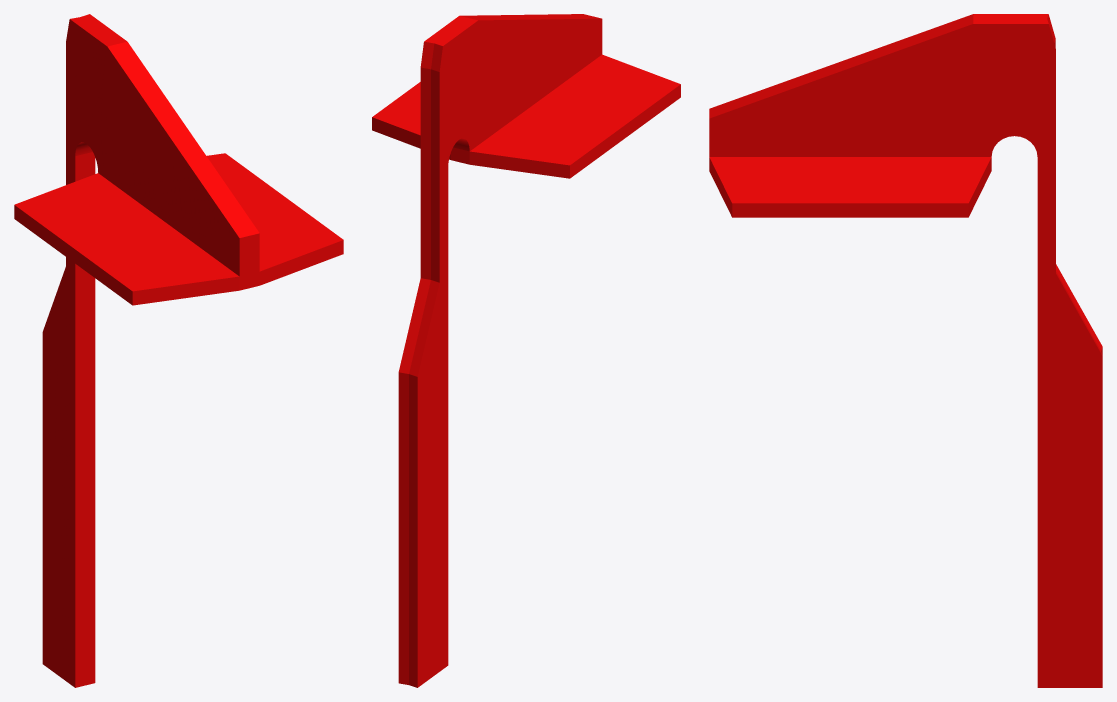
Rendered from original-40.obj.
3 renders of one model, left to right at view 1: azimuth 30°, elevation 25°; view 2: azimuth 150°, elevation 25°; view 3: azimuth 270°, elevation 25°, orthographic. The views are drawn at different scales.
Visible parts, largest first — view 1: Group24/mesh125/mesh125-geometry#mesh125-geometry; view 2: Group24/mesh125/mesh125-geometry#mesh125-geometry; view 3: Group24/mesh125/mesh125-geometry#mesh125-geometry.
Boxes of the visible parts, x1,y1,x2,y2 form: Group24/mesh125/mesh125-geometry#mesh125-geometry: (14,14,343,687); Group24/mesh125/mesh125-geometry#mesh125-geometry: (372,14,680,687); Group24/mesh125/mesh125-geometry#mesh125-geometry: (709,14,1102,687).
Bounding box in the file's own units: 0.0505 × 0.152 × 0.0816.
